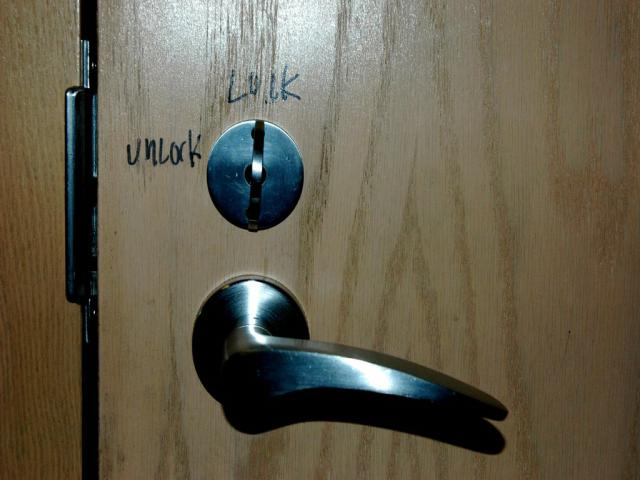Door-handle: (191, 273, 509, 423)
